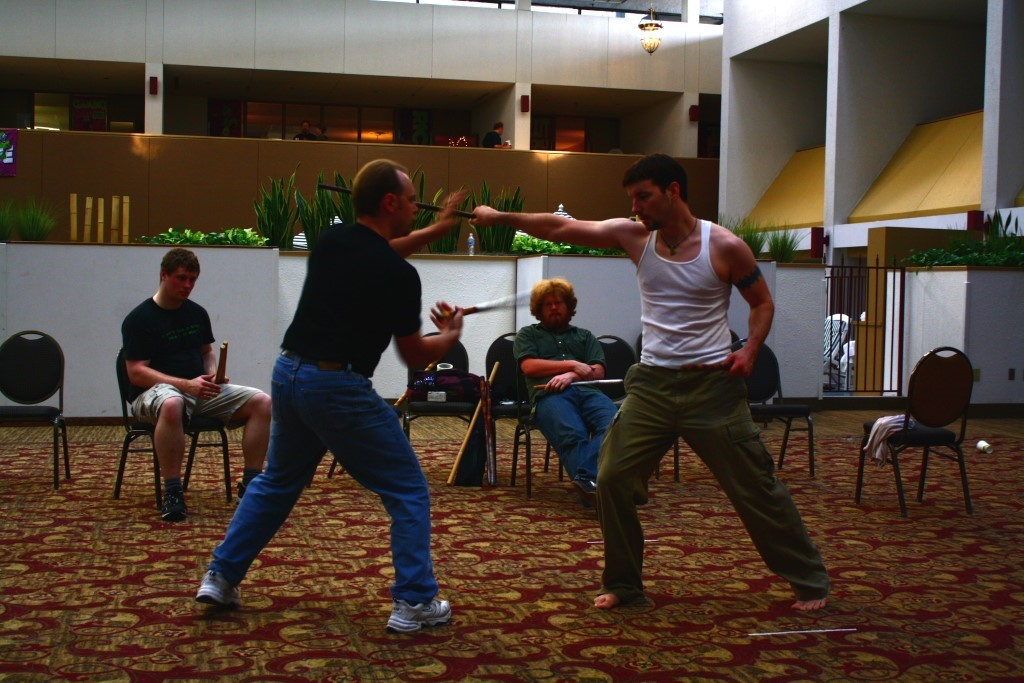baston_e: (447, 366, 500, 480), (321, 183, 473, 219), (441, 288, 529, 318), (394, 361, 436, 405), (535, 377, 618, 390), (214, 350, 224, 382)
baston_v: (434, 311, 446, 323), (492, 357, 503, 369), (614, 374, 625, 386), (312, 177, 323, 189), (443, 479, 453, 486), (222, 340, 230, 347), (219, 343, 226, 350), (531, 384, 538, 391)
